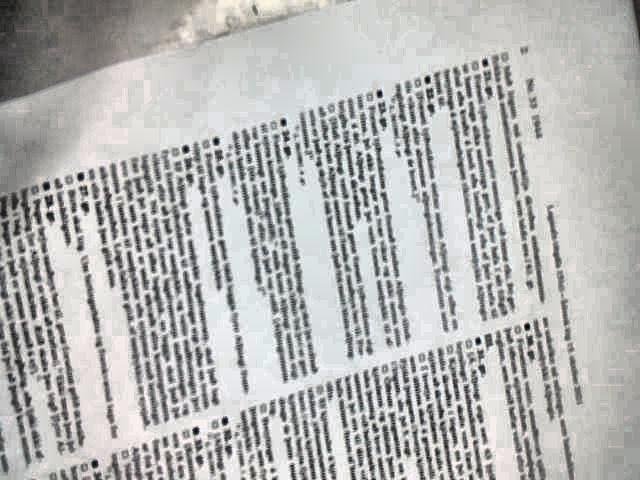Paper: (0, 0, 640, 479)
